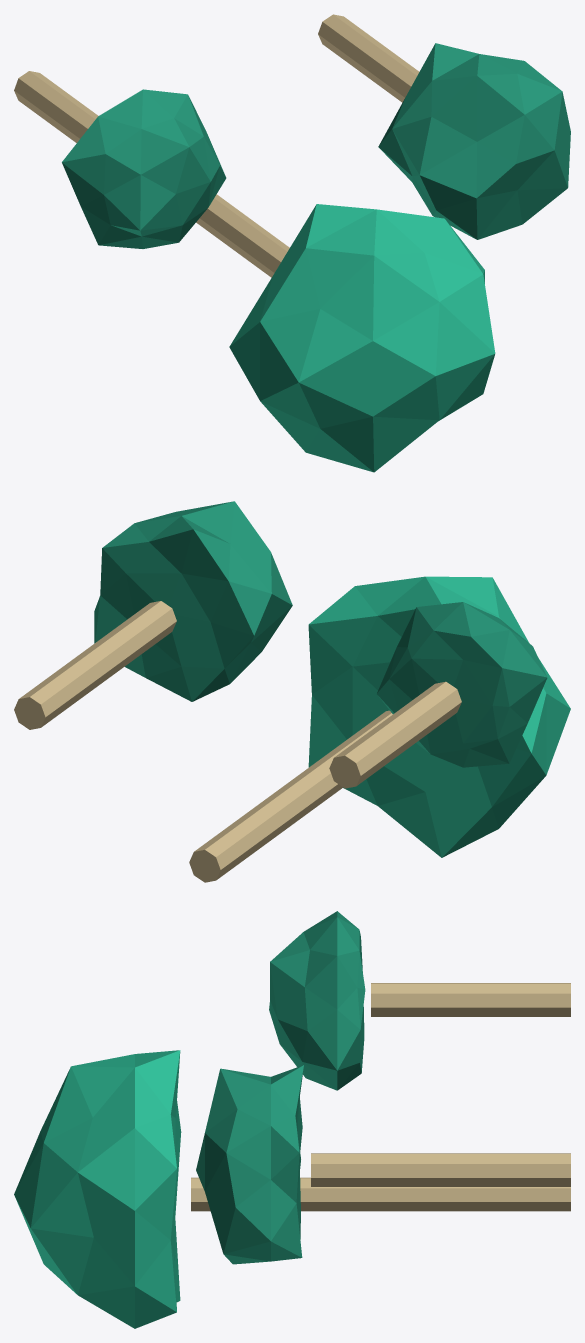
File: bulbes.glb
3 renders of one model, top to bottom at view 1: azimuth 30°, elevation 25°; view 2: azimuth 150°, elevation 25°; view 3: azimuth 270°, elevation 25°, orthographic. The views are drawn at different scales.
Parts seen in each view (by area): view 1: tete0, tete1, tete2, tige1, tige0, tige2; view 2: tete0, tete1, tete2, tige0, tige1, tige2; view 3: tete0, tete1, tete2, tige1, tige0, tige2.
Boxes of the visible parts, <box> form: tete0: <box>229,204,495,472</box>; tete1: <box>378,43,570,239</box>; tete2: <box>62,89,226,248</box>; tige1: <box>318,14,419,102</box>; tige0: <box>196,194,289,277</box>; tige2: <box>14,71,98,142</box>; tete0: <box>308,576,570,857</box>; tete1: <box>94,501,292,701</box>; tete2: <box>377,602,547,767</box>; tige0: <box>189,710,392,882</box>; tige1: <box>14,601,176,729</box>; tige2: <box>329,681,461,788</box>; tete0: <box>14,1050,181,1328</box>; tete1: <box>196,1065,303,1264</box>; tete2: <box>269,911,365,1090</box>; tige1: <box>311,1153,570,1186</box>; tige0: <box>191,1177,570,1211</box>; tige2: <box>371,983,570,1016</box>.
Bounding box in the file's own units: 2.78 × 1.86 × 2.78.
